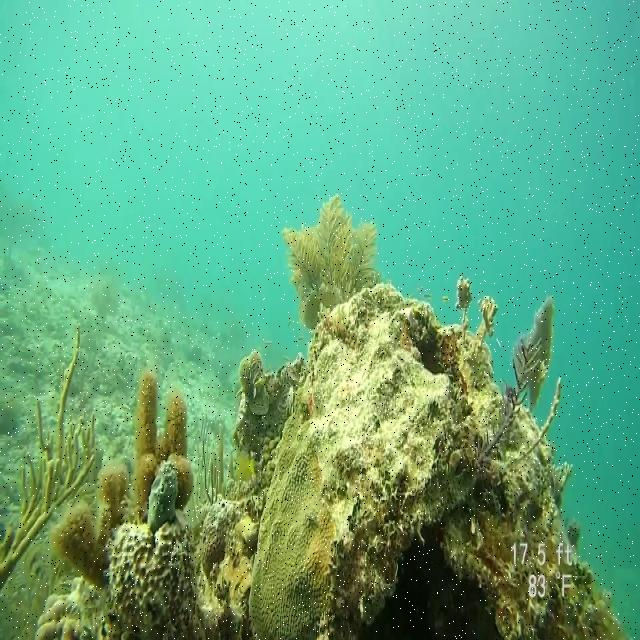aquatic plants: (280, 195, 380, 330)
reefs: (45, 370, 195, 591), (0, 320, 96, 592)
sea-floor: (31, 274, 628, 639)
